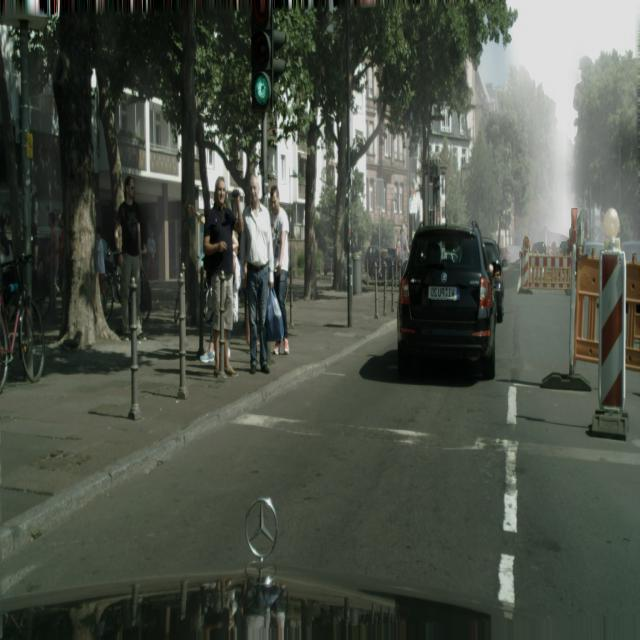car: (0, 254, 45, 388), (102, 255, 153, 336)
person: (202, 176, 242, 378), (240, 173, 274, 374), (115, 174, 144, 339), (269, 184, 290, 357), (44, 211, 59, 316), (95, 226, 109, 307), (399, 223, 409, 272)
truck: (397, 223, 496, 381), (483, 237, 505, 323)
